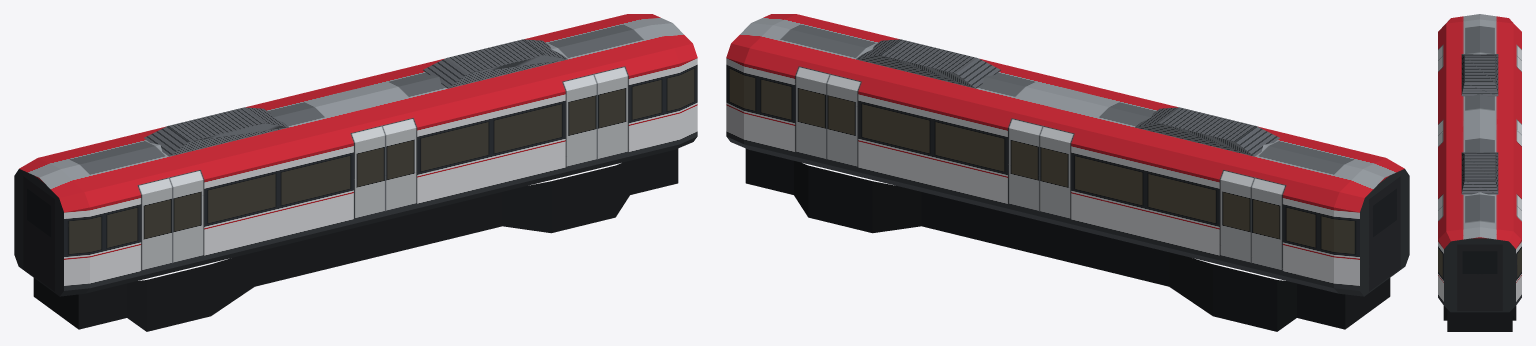
File: val_208__neutral.glb
The picture shows the model from 3 angles, left to right: view 1: azimuth 30°, elevation 25°; view 2: azimuth 150°, elevation 25°; view 3: azimuth 270°, elevation 25°; orthographic projection. The views are drawn at different scales.
Parts seen in each view (by area): view 1: val_208__neutral; view 2: val_208__neutral; view 3: val_208__neutral.
Boxes of the visible parts, box(x1,y1,x2,y2) form: val_208__neutral: box(14, 14, 697, 331); val_208__neutral: box(726, 14, 1409, 331); val_208__neutral: box(1438, 14, 1521, 331).
Size of the model in its own units: 13 by 3.25 by 2.06.
Materials: 1 (1 with a texture image).
